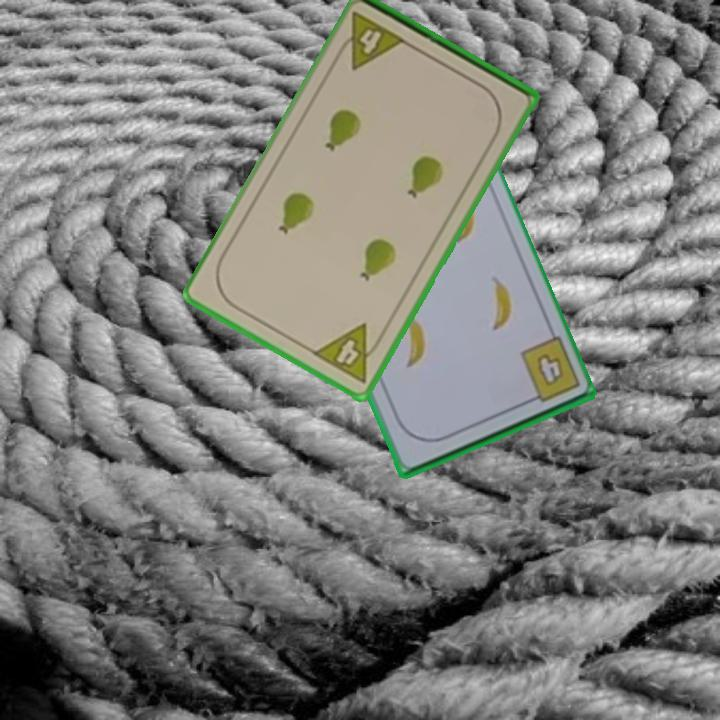4b: (516, 333, 583, 407)
4p: (309, 320, 388, 386), (331, 8, 410, 73)
